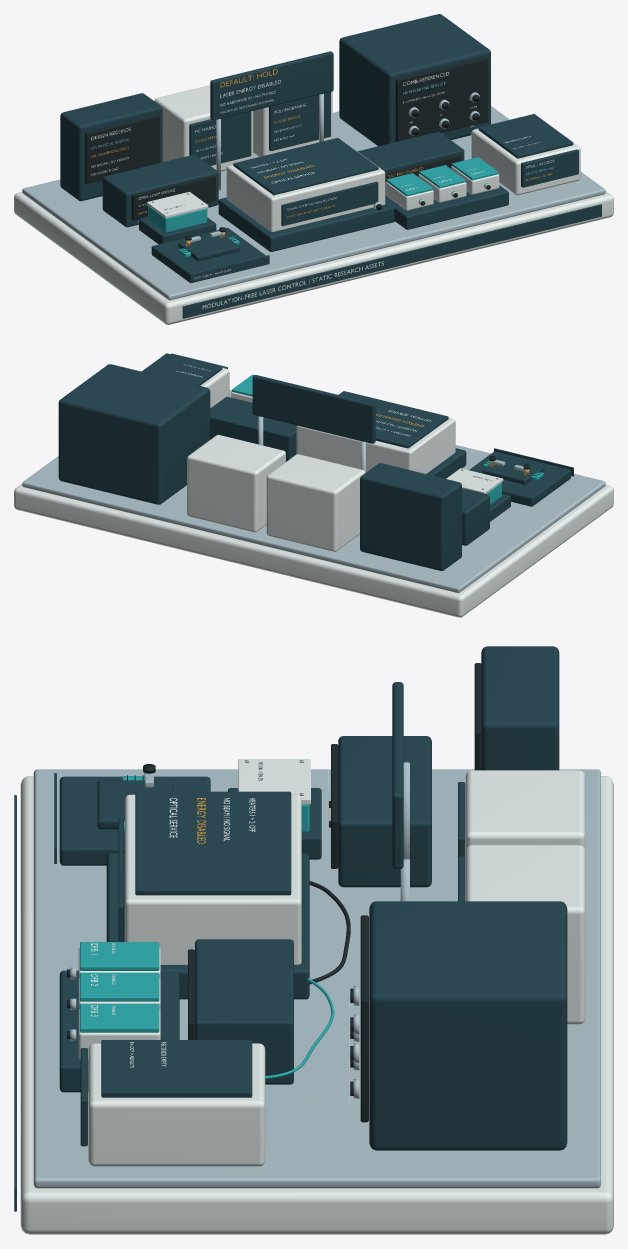
The model's file is laser_control_lab.glb.
3 renders of one model, top to bottom at view 1: azimuth 30°, elevation 25°; view 2: azimuth 150°, elevation 25°; view 3: azimuth 270°, elevation 25°, orthographic. The views are drawn at different scales.
Visible parts, largest first — view 1: bench.top, reference.body, bench.base, reference.face, bench.title.plate, hold.panel, enclosure.top_plate, design.body, enclosure.closed_cover, design.screen, enclosure.base, open_loop.body (+25 smaller); view 2: reference.body, bench.base, bench.top, design.body, foundry.body, pcb.body, hold.panel, enclosure.closed_cover, control.body, enclosure.top_plate, custody.dock, fpga.top (+5 smaller); view 3: bench.top, reference.body, bench.base, enclosure.top_plate, fpga.body, open_loop.body, control.body, enclosure.closed_cover, design.body, pcb.body, foundry.body, fpga.top (+16 smaller).
Part boxes in pixels (x1=…): bench.top: x1=22, y1=106, x2=605, y2=300; reference.body: x1=339, y1=14, x2=490, y2=146; bench.base: x1=14, y1=191, x2=613, y2=324; reference.face: x1=395, y1=57, x2=488, y2=141; bench.title.plate: x1=182, y1=204, x2=601, y2=318; hold.panel: x1=210, y1=51, x2=333, y2=120; enclosure.top_plate: x1=233, y1=138, x2=378, y2=195; design.body: x1=60, y1=93, x2=162, y2=201; enclosure.closed_cover: x1=226, y1=139, x2=385, y2=231; design.screen: x1=85, y1=115, x2=159, y2=184; enclosure.base: x1=218, y1=197, x2=394, y2=251; open_loop.body: x1=102, y1=154, x2=218, y2=227; reference.body: x1=58, y1=364, x2=210, y2=504; bench.base: x1=14, y1=484, x2=613, y2=617; bench.top: x1=22, y1=390, x2=605, y2=592; design.body: x1=360, y1=463, x2=461, y2=570; foundry.body: x1=266, y1=454, x2=365, y2=551; pcb.body: x1=187, y1=435, x2=285, y2=532; hold.panel: x1=252, y1=375, x2=375, y2=443; enclosure.closed_cover: x1=296, y1=392, x2=455, y2=473; control.body: x1=210, y1=396, x2=296, y2=461; enclosure.top_plate: x1=339, y1=391, x2=448, y2=448; custody.dock: x1=469, y1=451, x2=570, y2=506; fpga.top: x1=142, y1=353, x2=222, y2=385; bench.top: x1=33, y1=769, x2=600, y2=1188; reference.body: x1=369, y1=901, x2=567, y2=1150; bench.base: x1=20, y1=776, x2=613, y2=1234; enclosure.top_plate: x1=135, y1=791, x2=291, y2=895; fpga.body: x1=88, y1=1043, x2=265, y2=1166; open_loop.body: x1=338, y1=736, x2=431, y2=887; control.body: x1=195, y1=939, x2=293, y2=1084; enclosure.closed_cover: x1=125, y1=794, x2=301, y2=964; design.body: x1=481, y1=646, x2=559, y2=770; pcb.body: x1=465, y1=845, x2=585, y2=1024; foundry.body: x1=465, y1=770, x2=585, y2=850; fpga.top: x1=101, y1=1040, x2=252, y2=1097.
Size of the model in its own units: 1.92 by 0.57 by 1.15.
